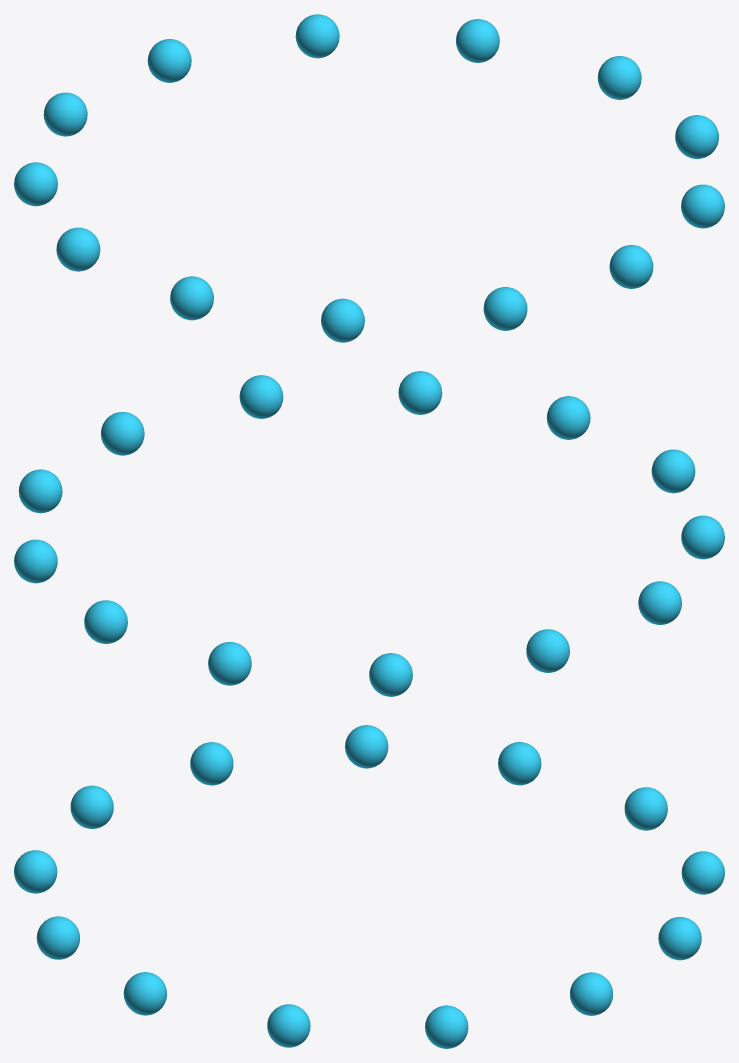
The picture shows the model from 3 angles, top to bottom: view 1: azimuth 30°, elevation 25°; view 2: azimuth 150°, elevation 25°; view 3: azimuth 270°, elevation 25°; orthographic projection.
Parts seen in each view (by area): view 1: Sphere048; view 2: Sphere048; view 3: Sphere048.
Part boxes in pixels (left/top/right/bottom): Sphere048: left=14, top=14, right=724, bottom=342; Sphere048: left=14, top=371, right=724, bottom=696; Sphere048: left=14, top=725, right=724, bottom=1048.
Size of the model in its own units: 134 by 8.22 by 134.
